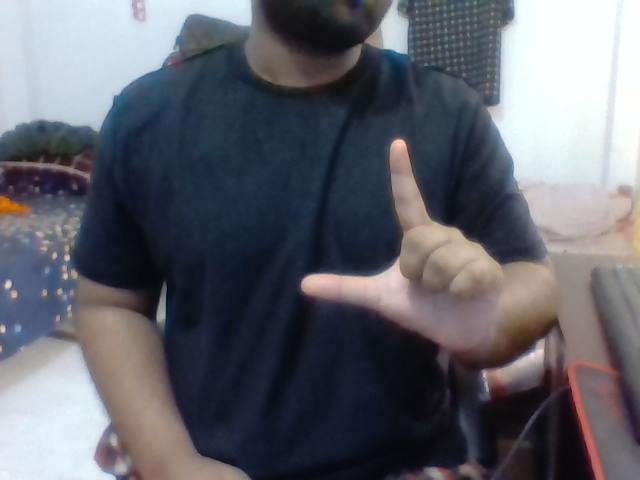L: (285, 132, 513, 357)
